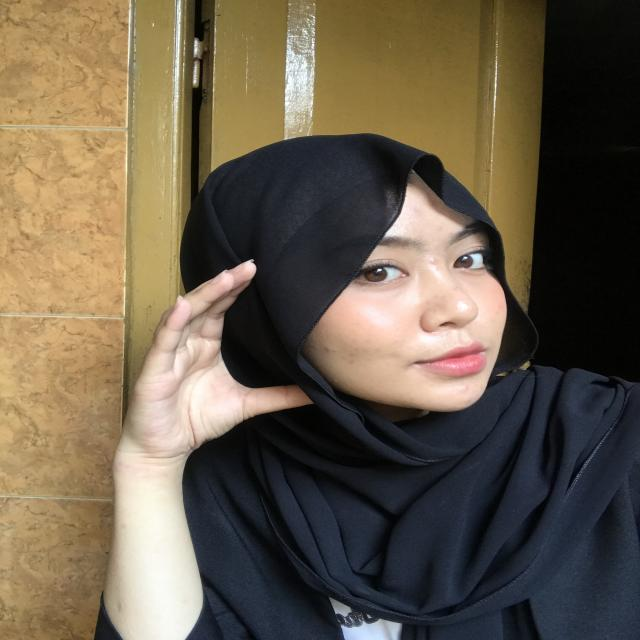mendengar: (89, 257, 328, 470)
